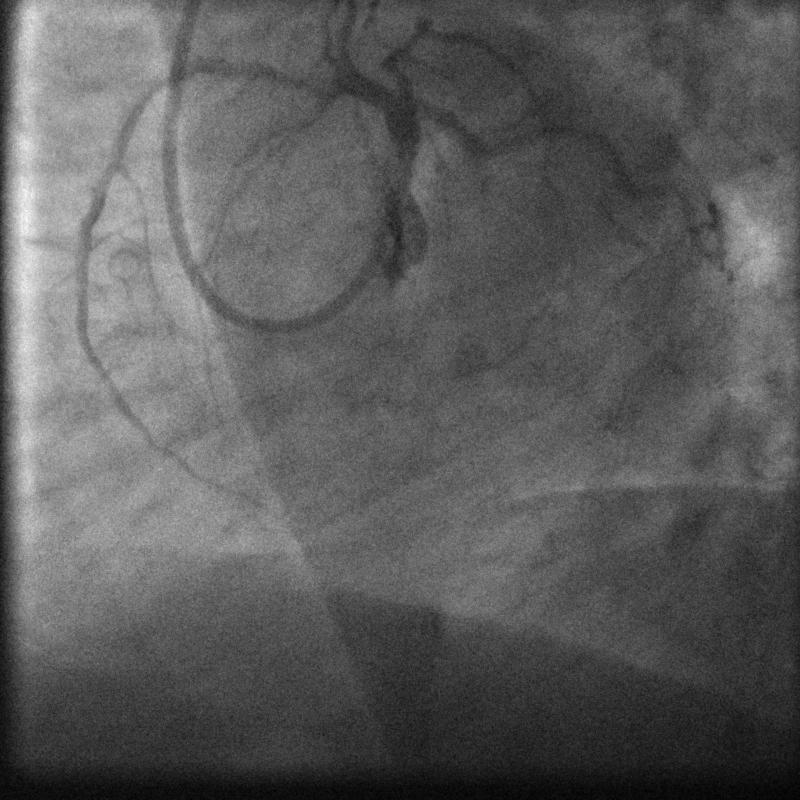Stenosis: (266, 60, 328, 107)
